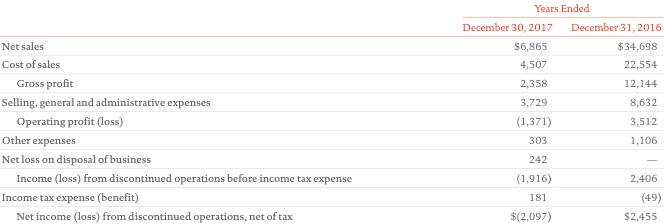table: (0, 1, 660, 221)
table column: (0, 1, 406, 221), (406, 1, 561, 221), (561, 1, 660, 221)
table column header: (0, 1, 660, 35)
table row: (0, 16, 660, 35), (0, 35, 660, 54), (0, 54, 660, 73), (0, 73, 660, 92), (0, 92, 660, 111), (0, 111, 660, 130), (0, 148, 660, 167), (0, 167, 660, 186), (0, 186, 660, 205), (0, 130, 660, 148), (0, 205, 660, 221), (0, 1, 660, 16)
table spanning cell: (406, 1, 660, 16)
